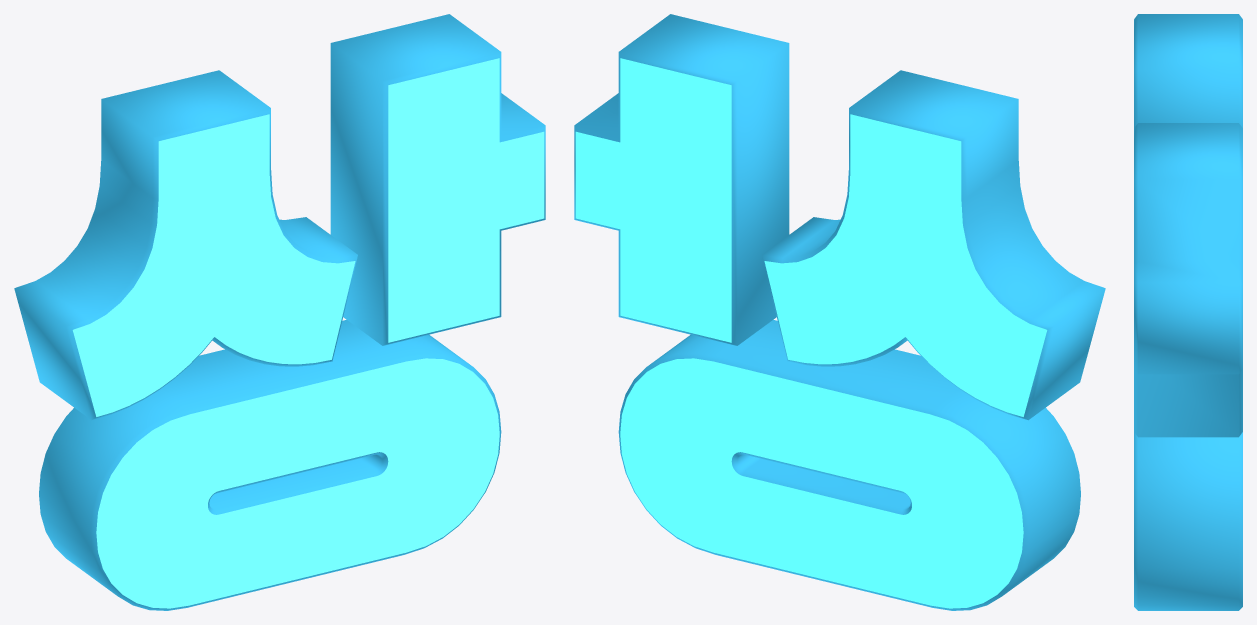
3 renders of one model, left to right at view 1: azimuth 30°, elevation 25°; view 2: azimuth 150°, elevation 25°; view 3: azimuth 270°, elevation 25°, orthographic. The views are drawn at different scales.
Visible parts, largest first — view 1: glyph; view 2: glyph; view 3: glyph.
Boxes of the visible parts, x1,y1,x2,y2 form: glyph: (14,14,545,610); glyph: (574,14,1105,610); glyph: (1134,14,1242,610).
Size of the model in its own units: 0.0802 by 0.0766 by 0.0162.
